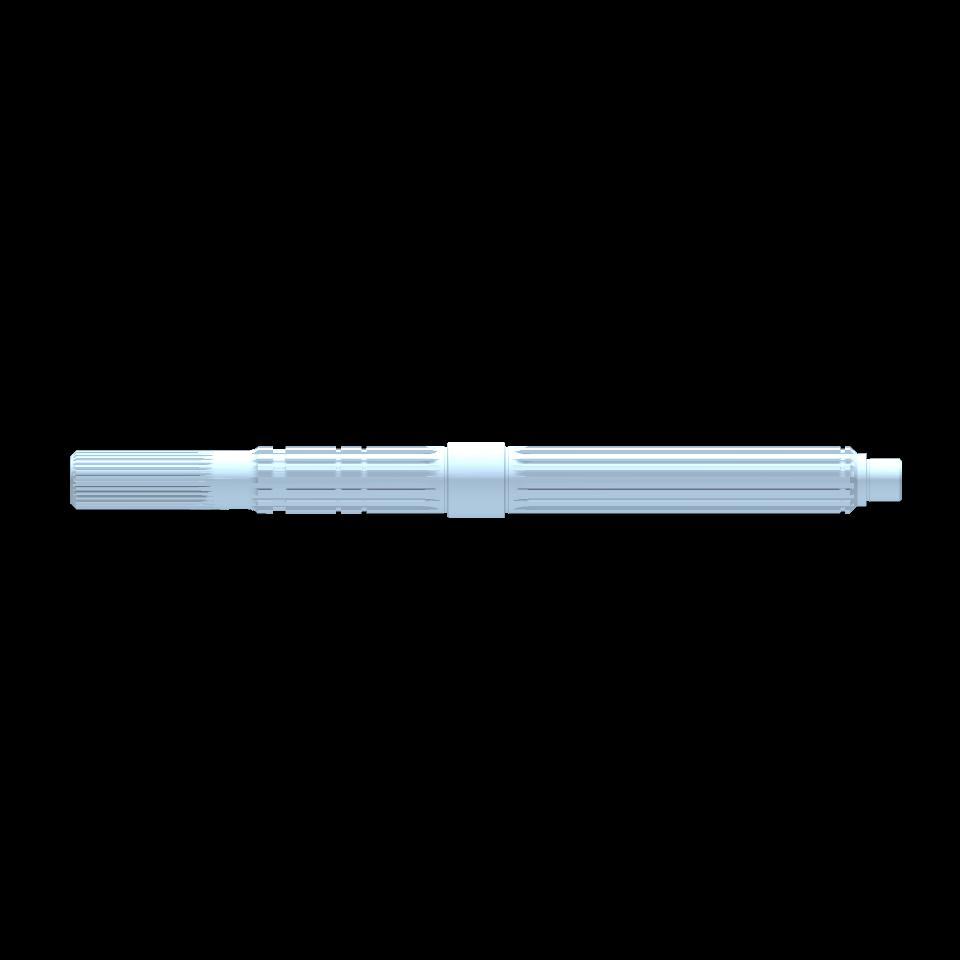Straight: (523, 445, 840, 513), (75, 450, 207, 508), (366, 447, 433, 512), (287, 448, 336, 513), (341, 446, 360, 512), (259, 447, 271, 514), (846, 446, 850, 513)
